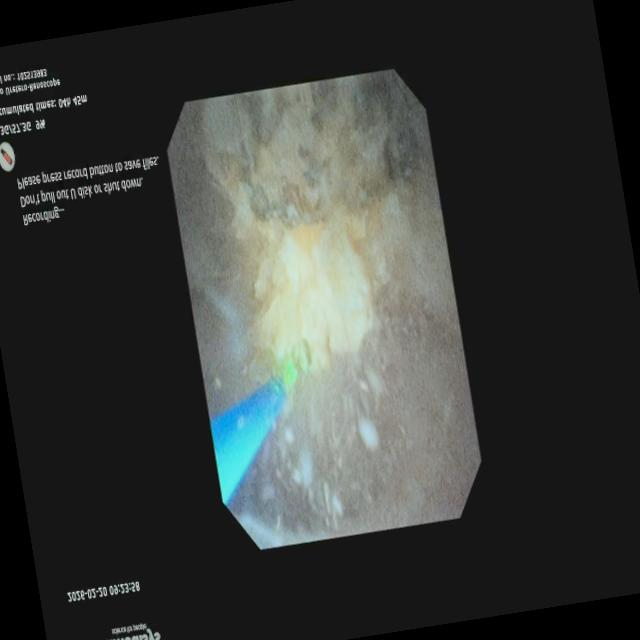laser-fibre: (277, 362, 297, 391)
laser_dot: (297, 341, 311, 372)
stone-new: (204, 78, 399, 371)
